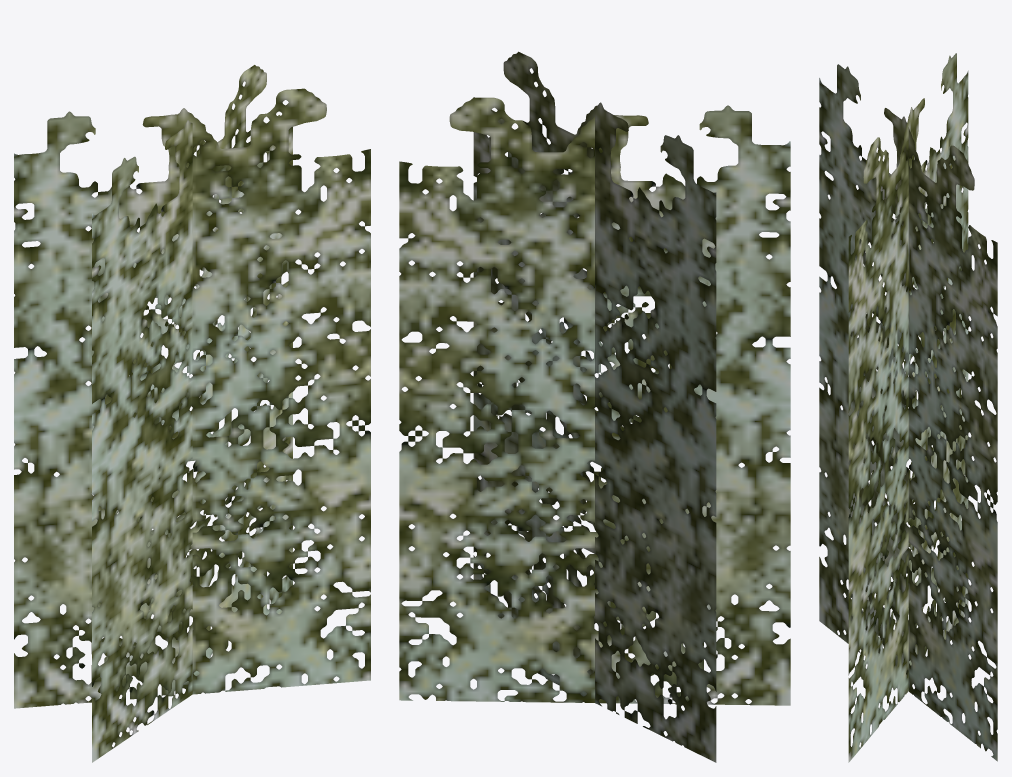
Rendered from bush_tall_half_overgrown_winter.fbx.
3 views of the same model, side by side, from view 1: azimuth 30°, elevation 25°; view 2: azimuth 150°, elevation 25°; view 3: azimuth 270°, elevation 25° (orthographic). The views are drawn at different scales.
Visible parts, largest first — view 1: bush_tall_half_overgrown_winter; view 2: bush_tall_half_overgrown_winter; view 3: bush_tall_half_overgrown_winter.
Part boxes in pixels (x1,y1,x2,y2): bush_tall_half_overgrown_winter: (14, 65, 370, 762); bush_tall_half_overgrown_winter: (399, 51, 790, 762); bush_tall_half_overgrown_winter: (819, 53, 997, 762).
Bounding box in the file's own units: 105 × 206 × 54.93.
1 material, 1 textured.
